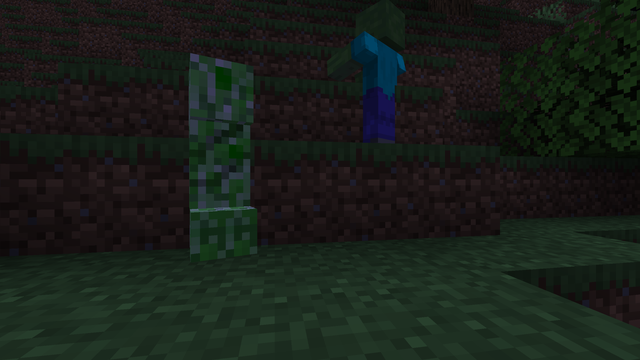creepers: (171, 43, 254, 258)
zombies: (353, 1, 409, 124)
